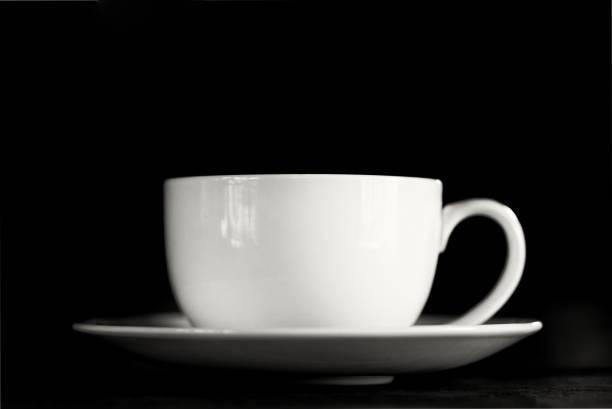cup-handle: (161, 171, 526, 332)
